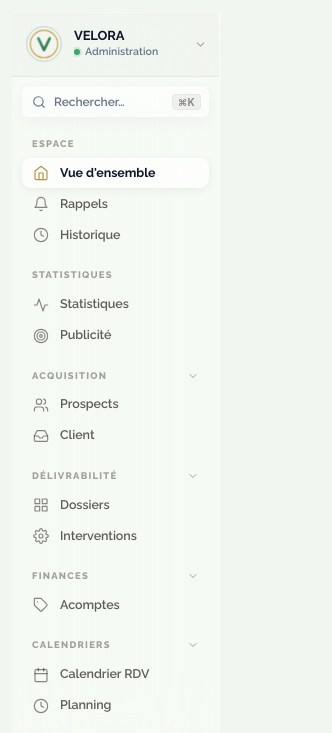
Sidebar — navigation par rôle › permet de replier une section métier sans masquer les autres groupes
Click the button "Acquisition".
click(116, 376)  # box x1=22 y1=362 x2=209 y2=389
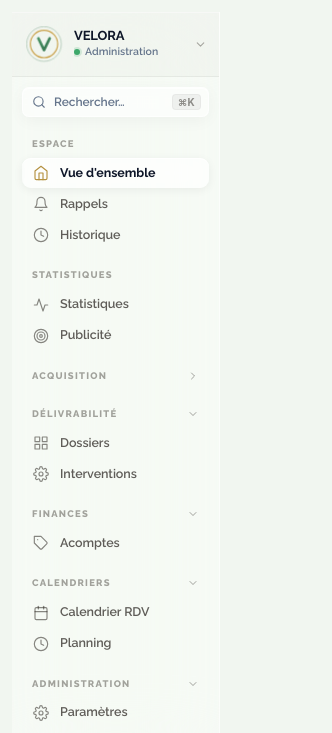
Expected: the link "Dossiers" is shown, x1=33 y1=435 x2=110 y2=451
Expected: the link "Prospects" is gone
Expected: the link "Client" is gone
